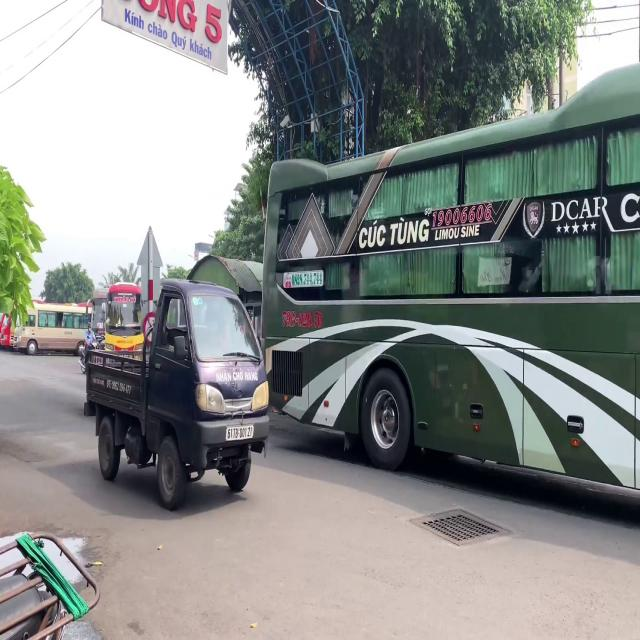bien_trang: (224, 424, 254, 440)
